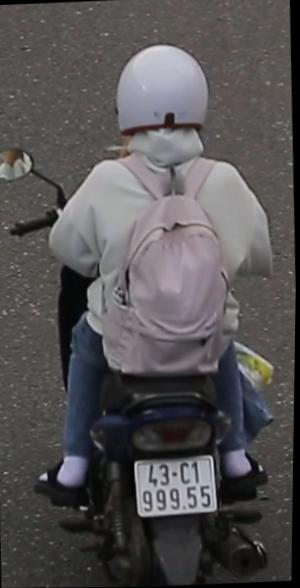LP: (131, 453, 222, 525)
helmet: (110, 40, 216, 158)
